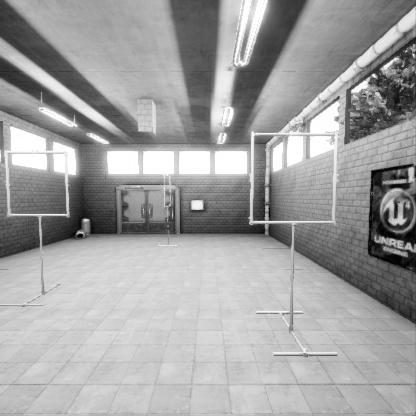gate: (253, 195, 347, 288), (12, 202, 78, 265), (164, 209, 170, 244)
